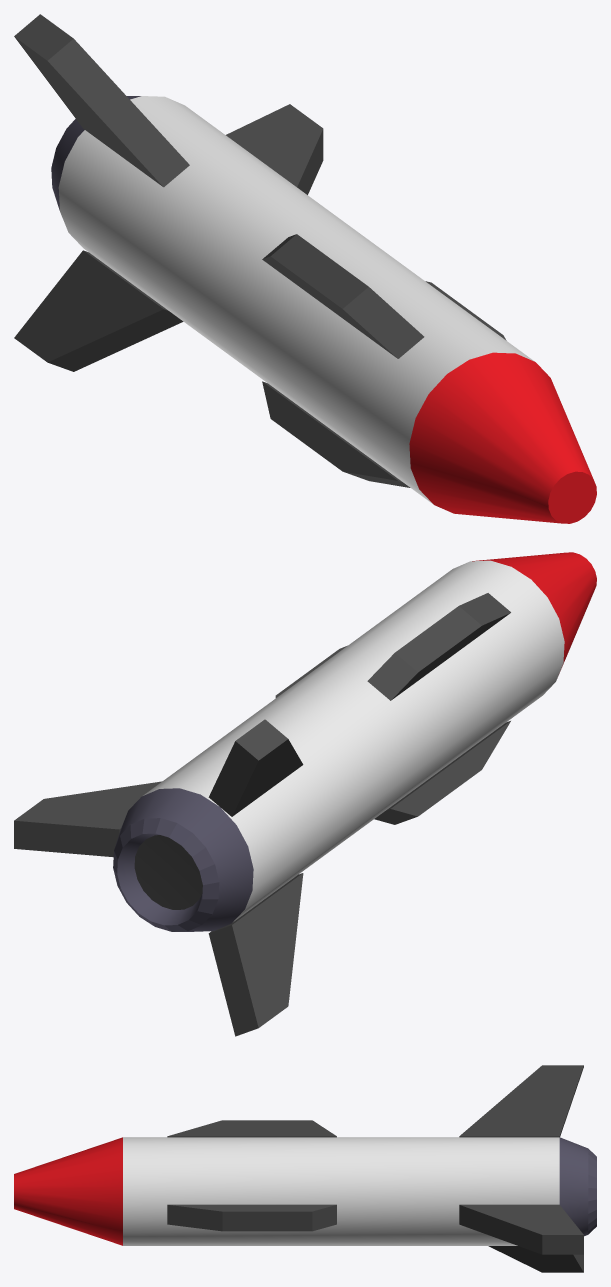
The model's file is Missile.obj.
3 views of the same model, one above another, from view 1: azimuth 30°, elevation 25°; view 2: azimuth 150°, elevation 25°; view 3: azimuth 270°, elevation 25° (orthographic). The views are drawn at different scales.
Parts seen in each view (by area): view 1: Missile; view 2: Missile; view 3: Missile.
Boxes of the visible parts, box(x1,y1,x2,y2) form: Missile: box(14, 14, 596, 523); Missile: box(14, 552, 596, 1036); Missile: box(14, 1065, 596, 1272).
Bounding box in the file's own units: 0.4543 × 0.5245 × 1.34.
